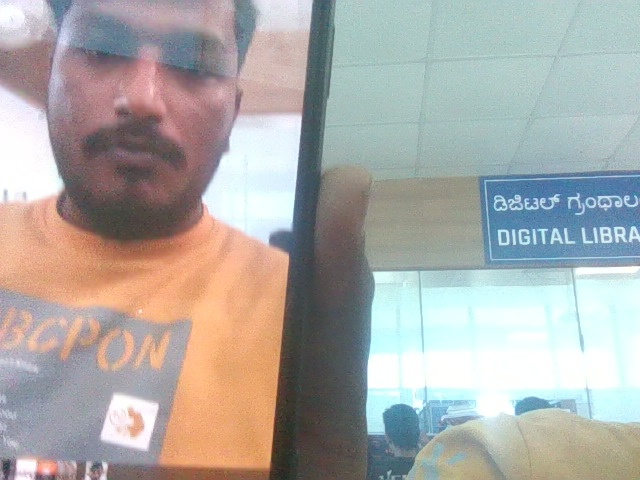fake: (14, 0, 275, 370)
